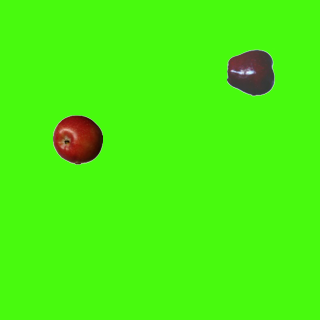Apple Braeburn: (52, 114, 102, 164)
Apple Red Delicious: (226, 47, 276, 97)
